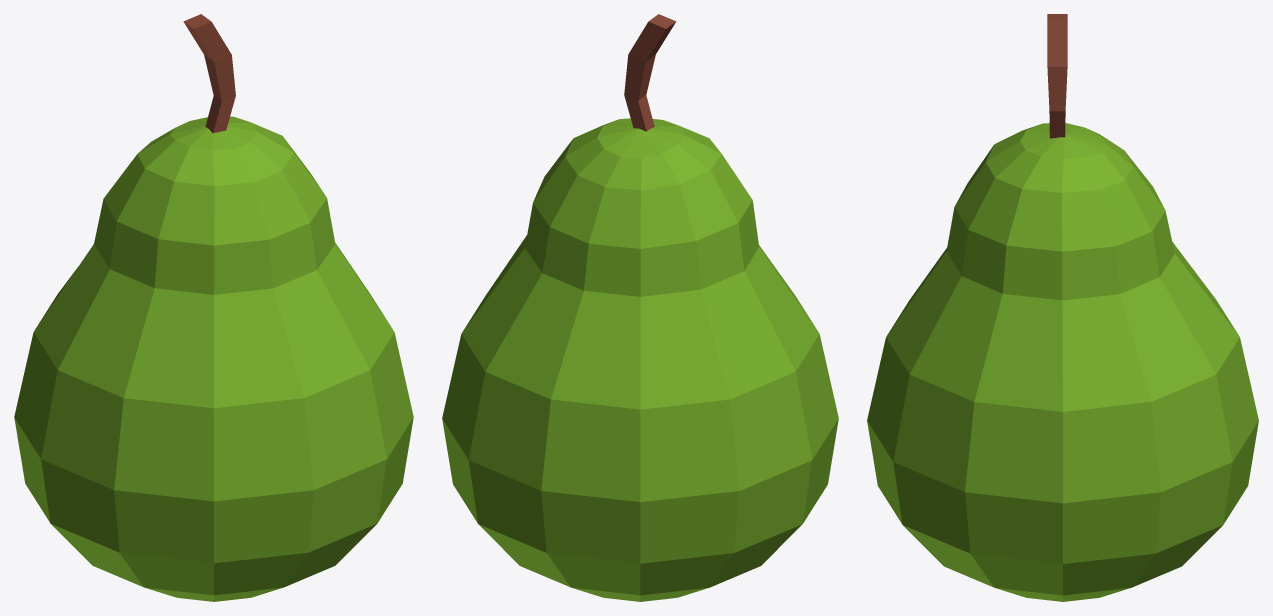
Rendered from avocado.fbx.
3 views of the same model, side by side, from view 1: azimuth 30°, elevation 25°; view 2: azimuth 150°, elevation 25°; view 3: azimuth 270°, elevation 25° (orthographic).
Visible parts, largest first — view 1: Sphere.012; view 2: Sphere.012; view 3: Sphere.012.
Part boxes in pixels (x1,y1,x2,y2): Sphere.012: [14, 14, 413, 601]; Sphere.012: [442, 14, 838, 601]; Sphere.012: [867, 14, 1258, 601].
Bounding box in the file's own units: 90.75 × 143 × 90.75.
